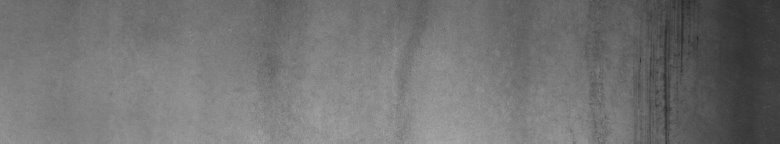ka: (591, 4, 699, 136)
